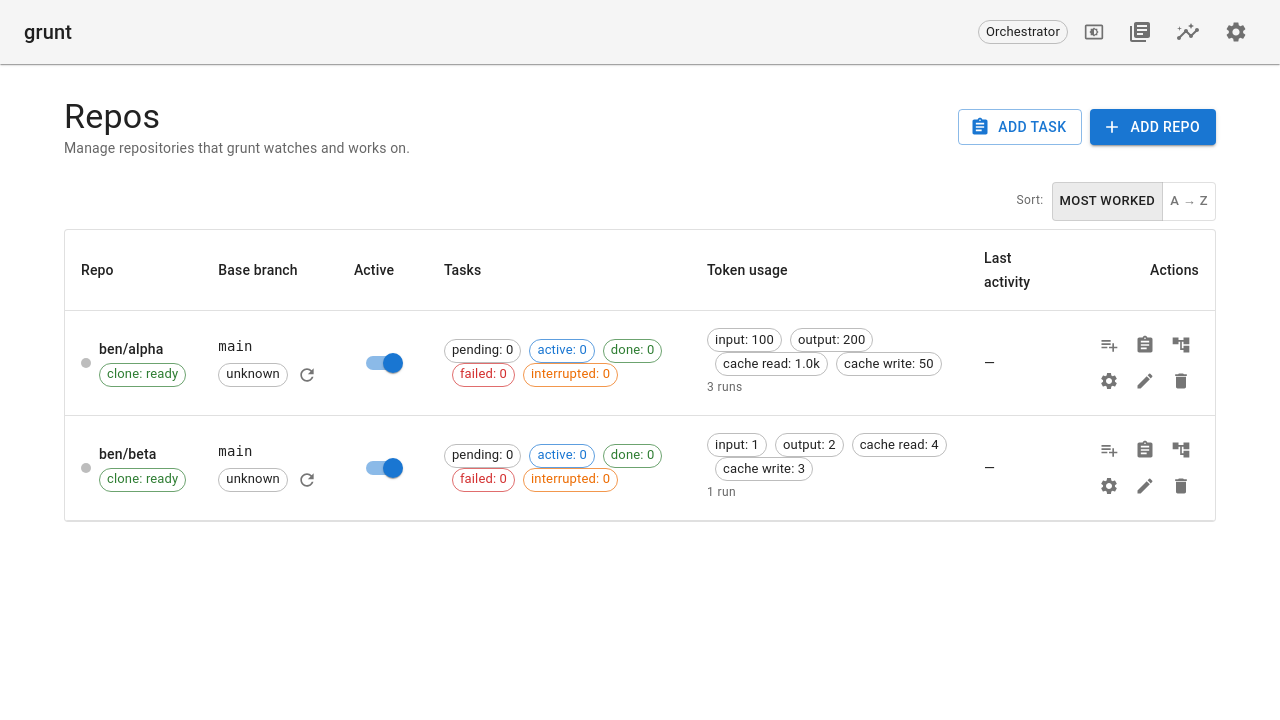
Test case: UsageDashboard › renders one row per repo with all-time totals fetched from /api/repos/:id/usage (acceptance #1166)
This screenshot has width=1280, height=720.
Click the button with test id "usage-button" at [1188, 32], box top-left (1168, 12), bottom-right (1208, 52)
(page scrolled)
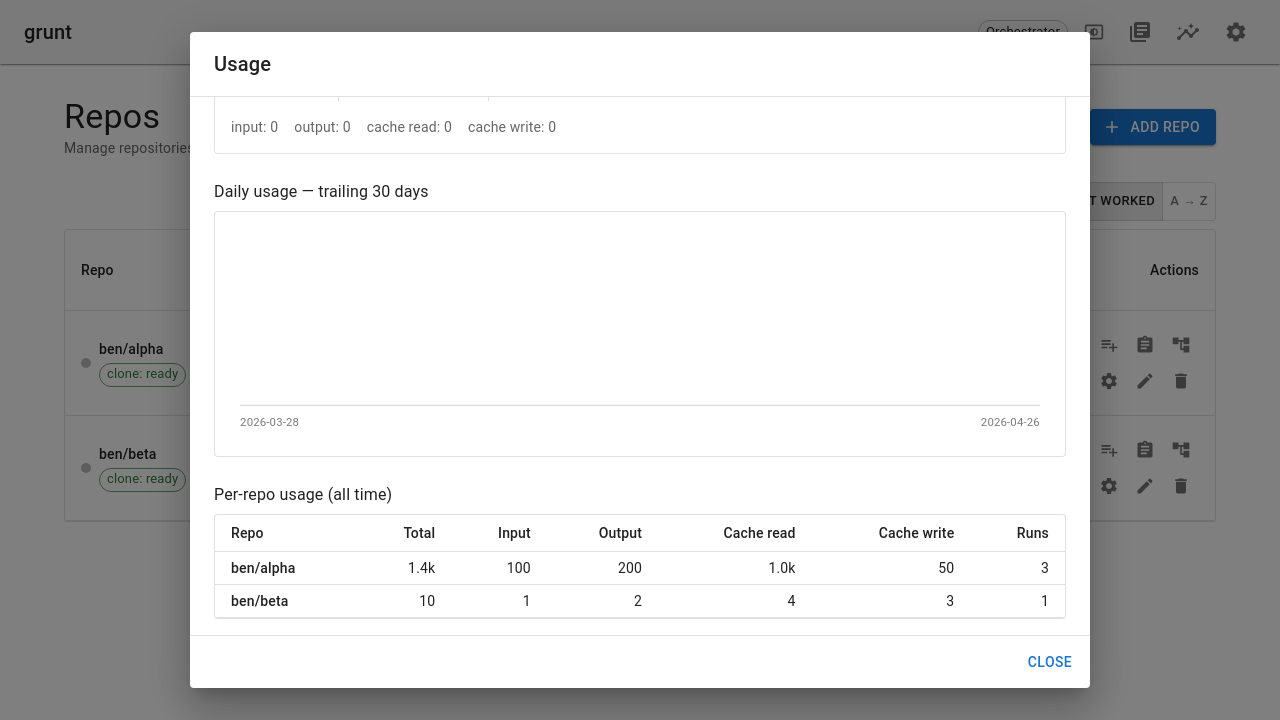
Expected: the row with test id "usage-repo-row-1" is shown, top-left (215, 552), bottom-right (1065, 585)
Expected: the row with test id "usage-repo-row-2" is shown, top-left (215, 585), bottom-right (1065, 618)
Expected: the text "ben/alpha" is shown, top-left (231, 560), bottom-right (296, 576)
